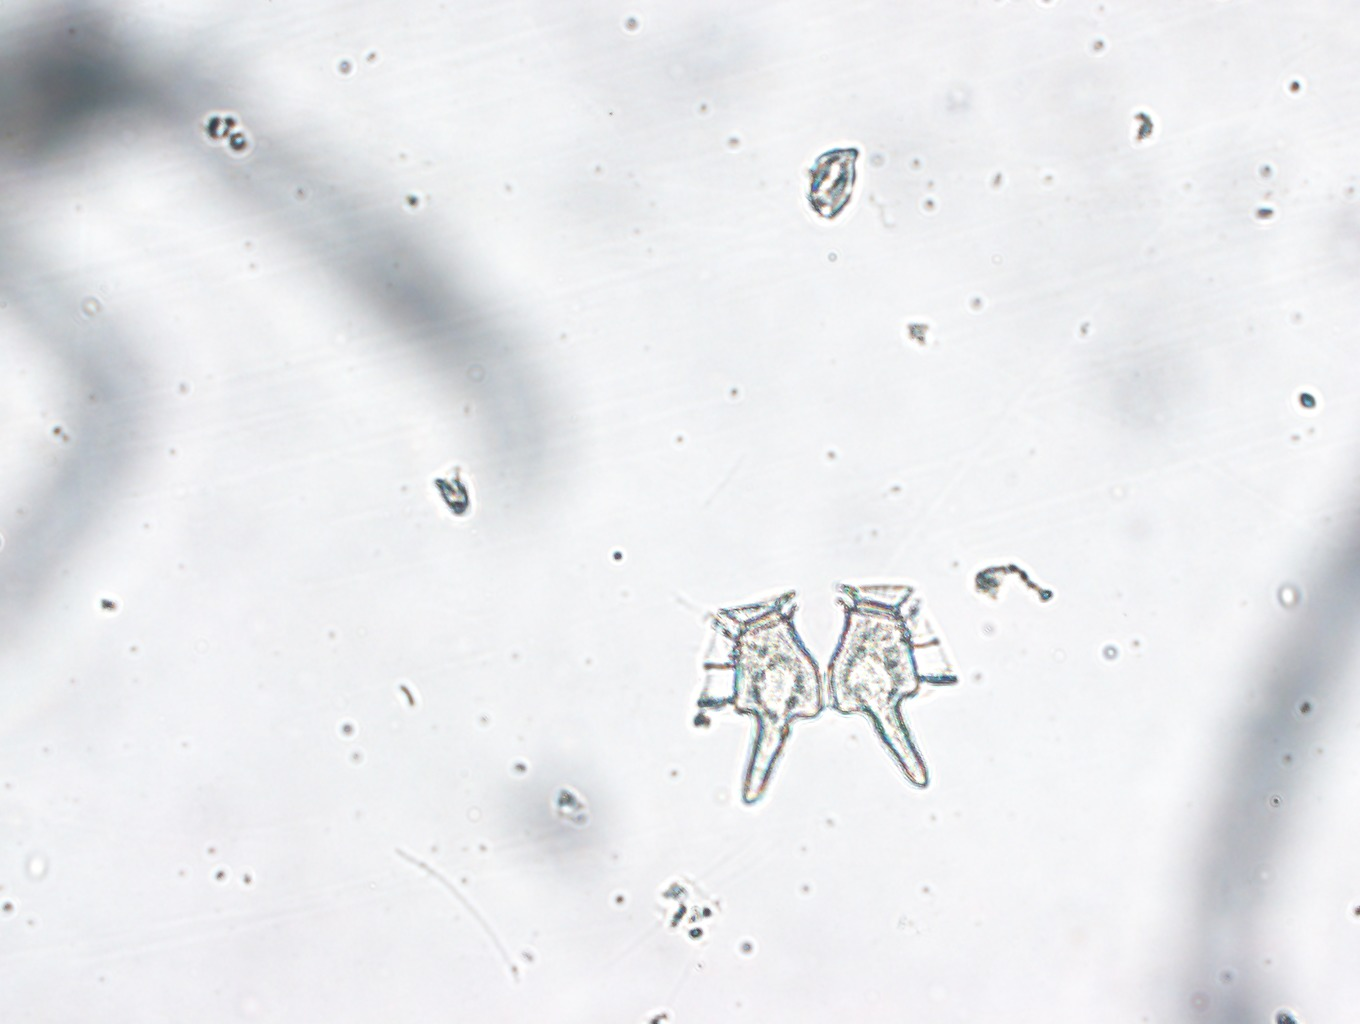dinophysis caudata: (695, 582, 957, 805)
